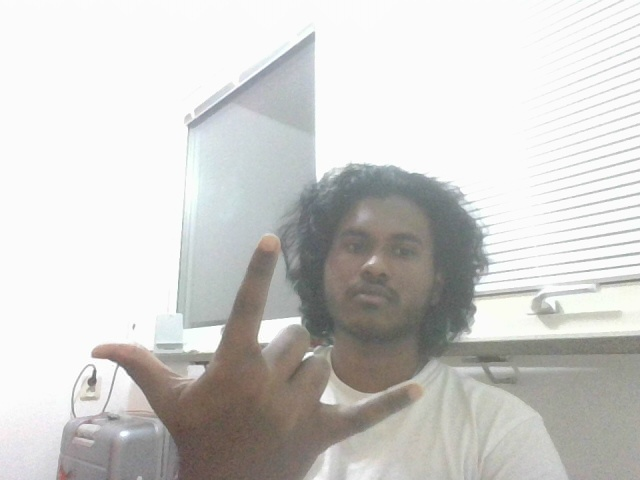I Love You: (88, 232, 434, 480)
